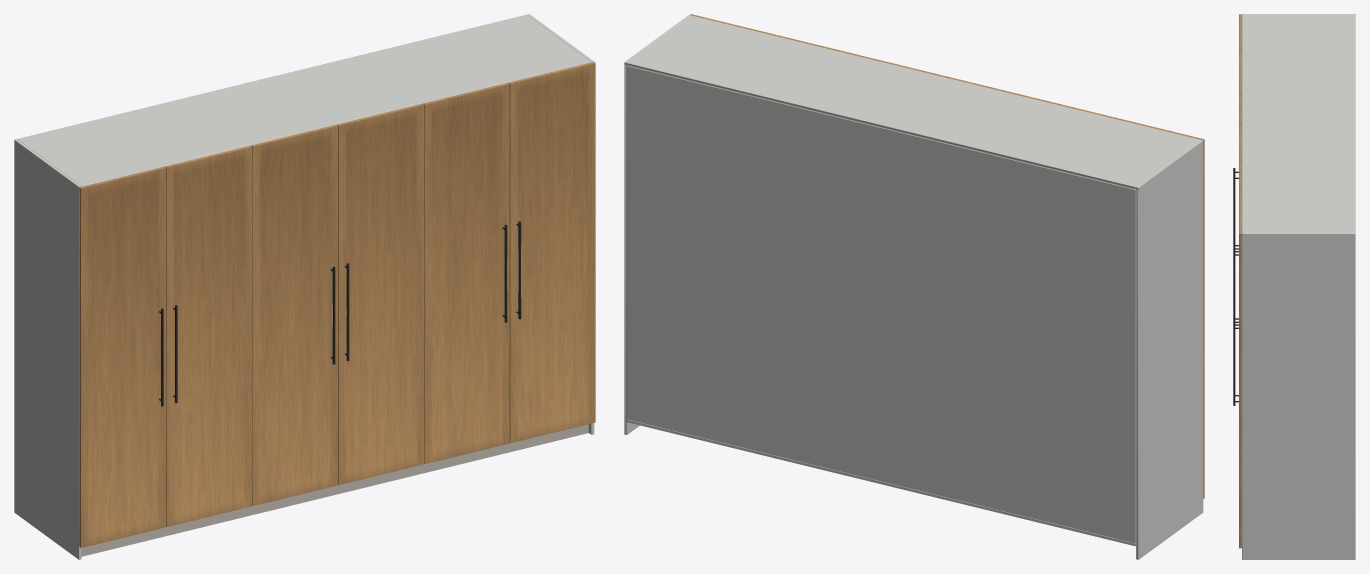
File: wardrobe.glb
3 views of the same model, side by side, from view 1: azimuth 30°, elevation 25°; view 2: azimuth 150°, elevation 25°; view 3: azimuth 270°, elevation 25° (orthographic). The views are drawn at different scales.
Parts seen in each view (by area): view 1: wardrobe_carcass, wardrobe_door_1, wardrobe_door_6, wardrobe_door_2, wardrobe_door_3, wardrobe_door_4, wardrobe_door_5, wardrobe_plinth; view 2: wardrobe_carcass, wardrobe_door_1; view 3: wardrobe_carcass, wardrobe_door_6, wardrobe_handle_6, wardrobe_handle_4, wardrobe_handle_2.
Part boxes in pixels (bbox=[...]): wardrobe_carcass: bbox=[14, 14, 594, 559]; wardrobe_door_1: bbox=[79, 166, 166, 547]; wardrobe_door_6: bbox=[509, 62, 595, 443]; wardrobe_door_2: bbox=[165, 145, 252, 526]; wardrobe_door_3: bbox=[251, 124, 337, 505]; wardrobe_door_4: bbox=[337, 103, 423, 484]; wardrobe_door_5: bbox=[423, 83, 509, 463]; wardrobe_plinth: bbox=[81, 424, 588, 556]; wardrobe_carcass: bbox=[624, 15, 1203, 559]; wardrobe_door_1: bbox=[1118, 118, 1204, 498]; wardrobe_carcass: bbox=[1242, 14, 1355, 559]; wardrobe_door_6: bbox=[1239, 197, 1241, 548]; wardrobe_handle_6: bbox=[1233, 320, 1238, 405]; wardrobe_handle_4: bbox=[1233, 247, 1238, 328]; wardrobe_handle_2: bbox=[1233, 173, 1238, 255].
Size of the model in its own units: 3.32 by 2.3 by 0.78.
Materials: 4 (1 with a texture image).
